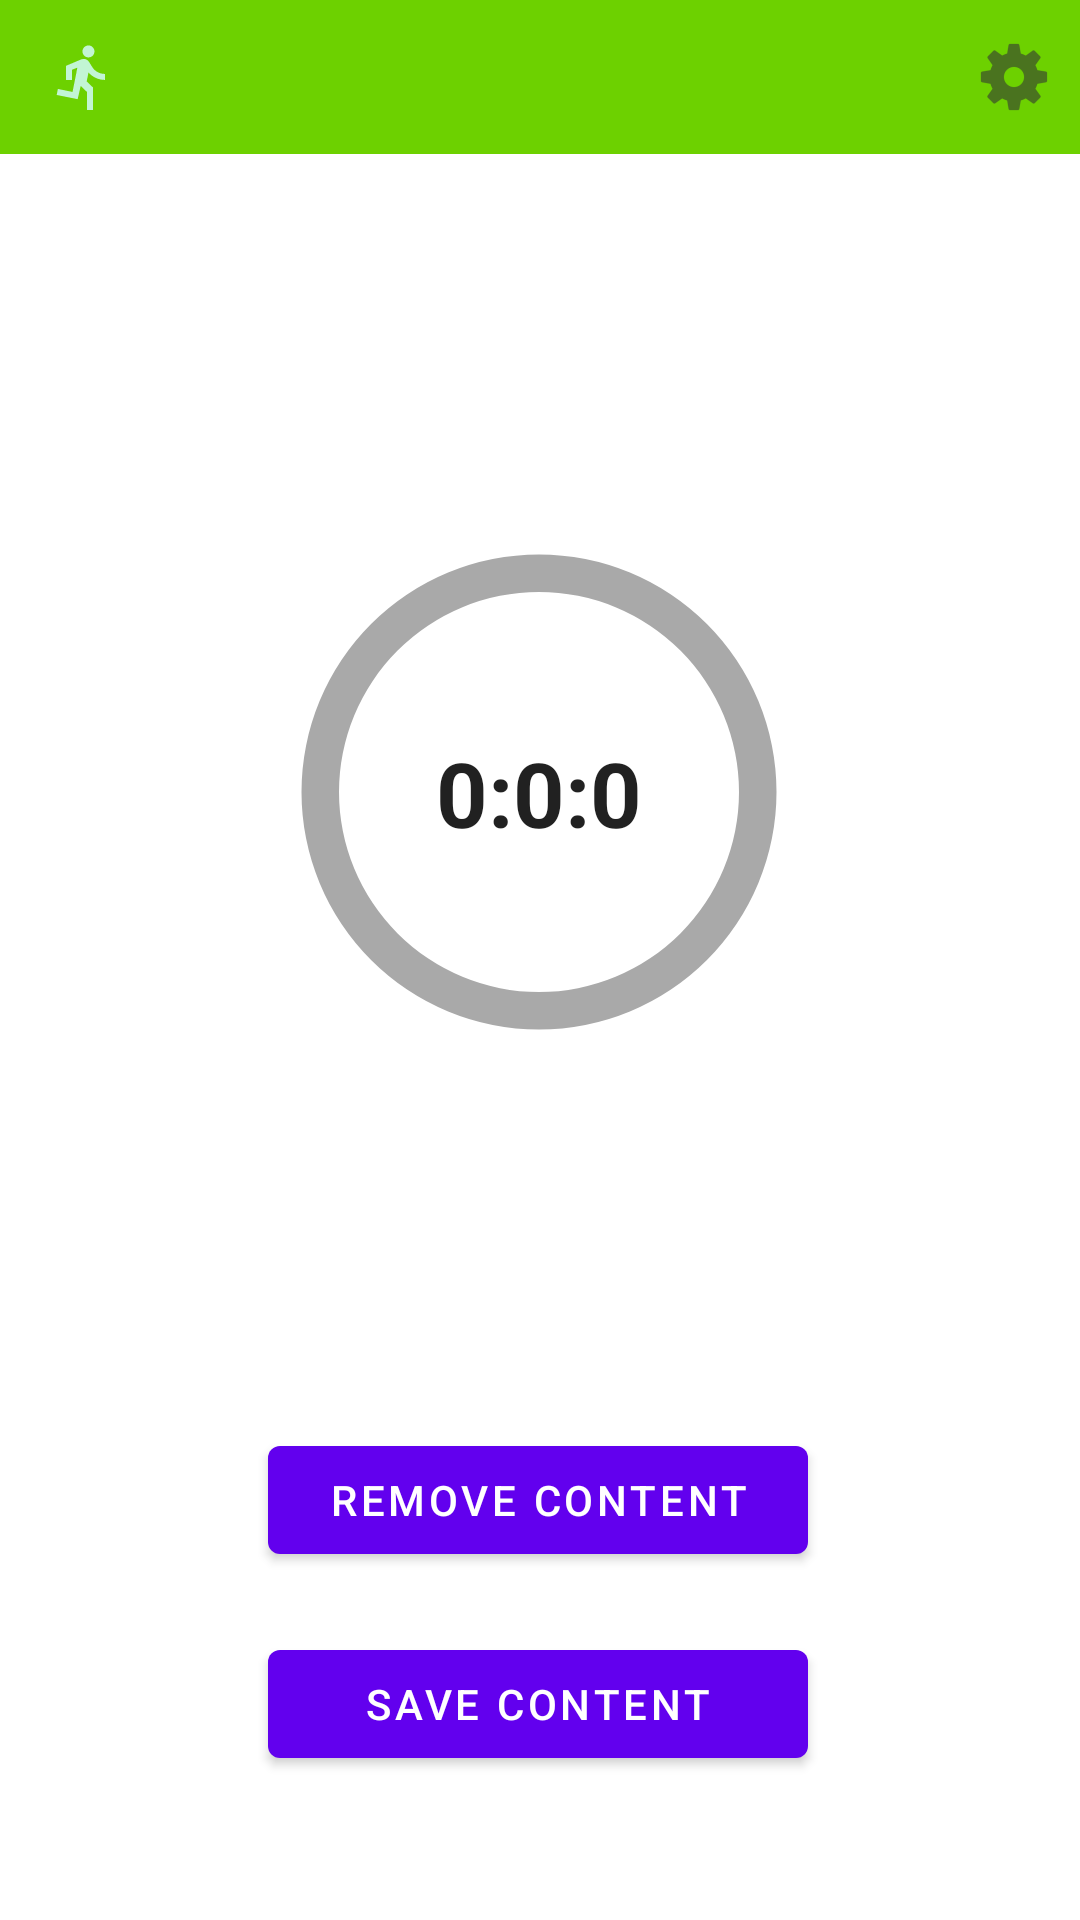

Where icons sit on this 1080×1920 app screen, as {"x1": x1, "y1": y1, "x2": x2, "y2": y2}:
directions run: {"x1": 56, "y1": 45, "x2": 105, "y2": 110}
settings: {"x1": 981, "y1": 44, "x2": 1047, "y2": 110}
